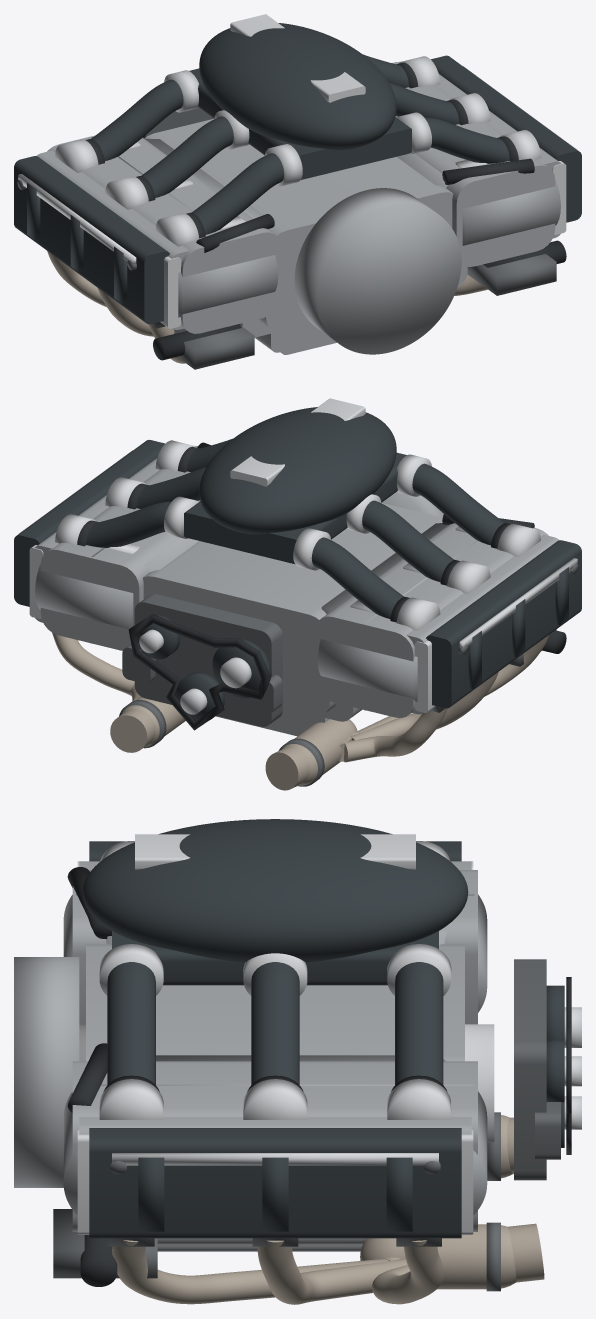
File: engine.glb
3 views of the same model, one above another, from view 1: azimuth 30°, elevation 25°; view 2: azimuth 150°, elevation 25°; view 3: azimuth 270°, elevation 25° (orthographic). The views are drawn at different scales.
Parts seen in each view (by area): view 1: Intake, Crankcase__flywheel_housing, Intake__plenum_shell, Crankcase__main_case, Cover_R__main_cover, Bank_R__water_jacket, Bank_L__water_jacket, Cover_L__main_cover, Mounts, Bank_R, Intake__plenum_lower_bridge, Bank_L (+16 smaller); view 2: Intake, Intake__plenum_shell, Crankcase__main_case, Cover_R__main_cover, Bank_R__water_jacket, Accessory_Drive__rear_plate, Bank_L__water_jacket, Accessory_Drive, Headers_R, Cover_L__main_cover, Bank_R, Intake__plenum_lower_bridge (+19 smaller); view 3: Intake__plenum_shell, Cover_L__main_cover, Intake, Crankcase__main_case, Headers_L, Crankcase__flywheel_housing, Bank_L__water_jacket, Accessory_Drive__rear_plate, Cover_L, Intake__plenum_lower_bridge, Accessory_Drive, Mounts (+18 smaller).
Part boxes in pixels (left/top/right/bottom): Intake: left=55, top=54, right=540, bottom=246; Crankcase__flywheel_housing: left=294, top=188, right=461, bottom=354; Intake__plenum_shell: left=199, top=23, right=396, bottom=150; Crankcase__main_case: left=144, top=119, right=462, bottom=333; Cover_R__main_cover: left=14, top=156, right=169, bottom=324; Bank_R__water_jacket: left=47, top=135, right=280, bottom=333; Bank_L__water_jacket: left=392, top=61, right=555, bottom=266; Cover_L__main_cover: left=431, top=55, right=581, bottom=222; Mounts: left=442, top=158, right=566, bottom=295; Bank_R: left=129, top=142, right=278, bottom=317; Intake__plenum_lower_bridge: left=189, top=68, right=411, bottom=179; Bank_L: left=455, top=160, right=560, bottom=245; Intake: left=55, top=438, right=540, bottom=630; Intake__plenum_shell: left=199, top=407, right=396, bottom=534; Crankcase__main_case: left=143, top=503, right=442, bottom=717; Cover_R__main_cover: left=426, top=540, right=581, bottom=708; Bank_R__water_jacket: left=315, top=523, right=548, bottom=717; Accessory_Drive__rear_plate: left=134, top=594, right=282, bottom=726; Bank_L__water_jacket: left=40, top=446, right=200, bottom=650; Accessory_Drive: left=122, top=614, right=271, bottom=721; Headers_R: left=339, top=635, right=548, bottom=762; Cover_L__main_cover: left=14, top=440, right=164, bottom=606; Bank_R: left=317, top=526, right=466, bottom=701; Intake__plenum_lower_bridge: left=184, top=452, right=406, bottom=563; Intake__plenum_shell: left=82, top=819, right=468, bottom=962; Cover_L__main_cover: left=89, top=1128, right=461, bottom=1238; Intake: left=99, top=841, right=451, bottom=1119; Crankcase__main_case: left=86, top=944, right=464, bottom=1061; Headers_L: left=108, top=1238, right=444, bottom=1304; Crankcase__flywheel_housing: left=14, top=957, right=79, bottom=1187; Bank_L__water_jacket: left=72, top=1061, right=477, bottom=1231; Accessory_Drive__rear_plate: left=514, top=959, right=546, bottom=1180; Cover_L: left=110, top=1157, right=440, bottom=1231; Intake__plenum_lower_bridge: left=112, top=931, right=438, bottom=985; Accessory_Drive: left=535, top=985, right=581, bottom=1159; Mounts: left=53, top=1043, right=157, bottom=1286.
Size of the model in its own units: 1.1 by 0.65 by 0.85.
